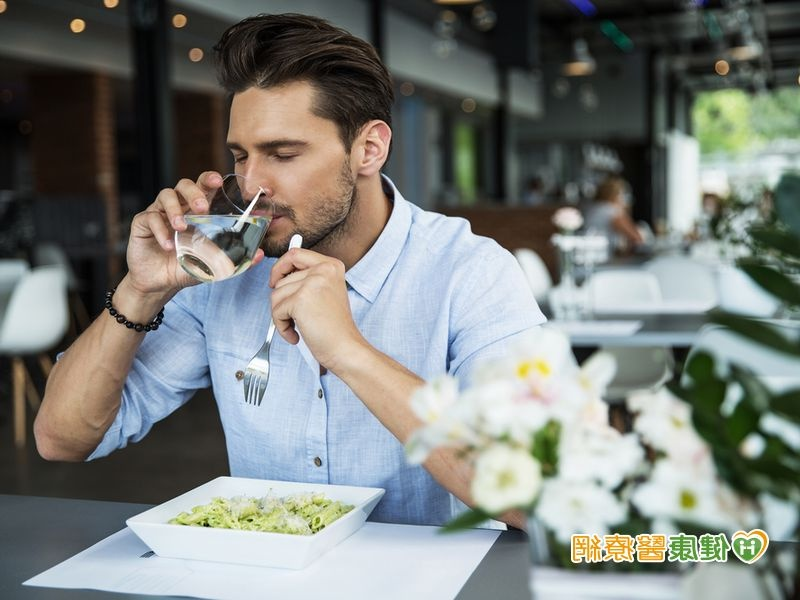cup: (170, 176, 275, 283)
face: (203, 22, 410, 269)
hand: (128, 167, 262, 297), (274, 246, 356, 367)
